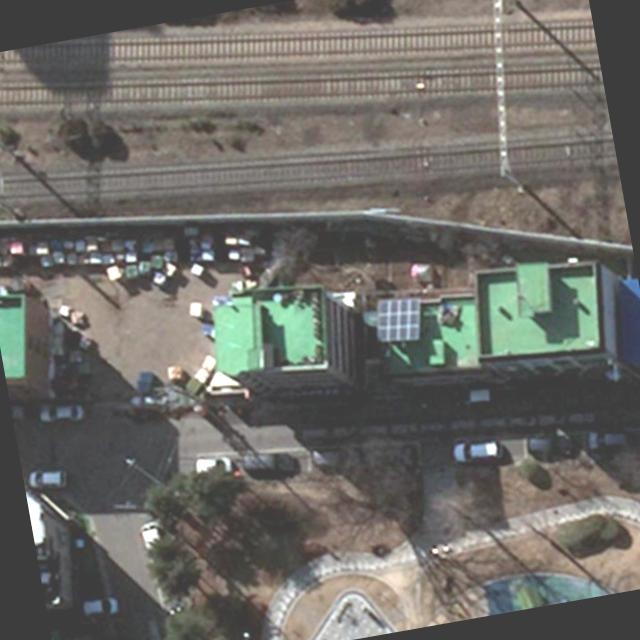solar: (369, 290, 428, 348)
